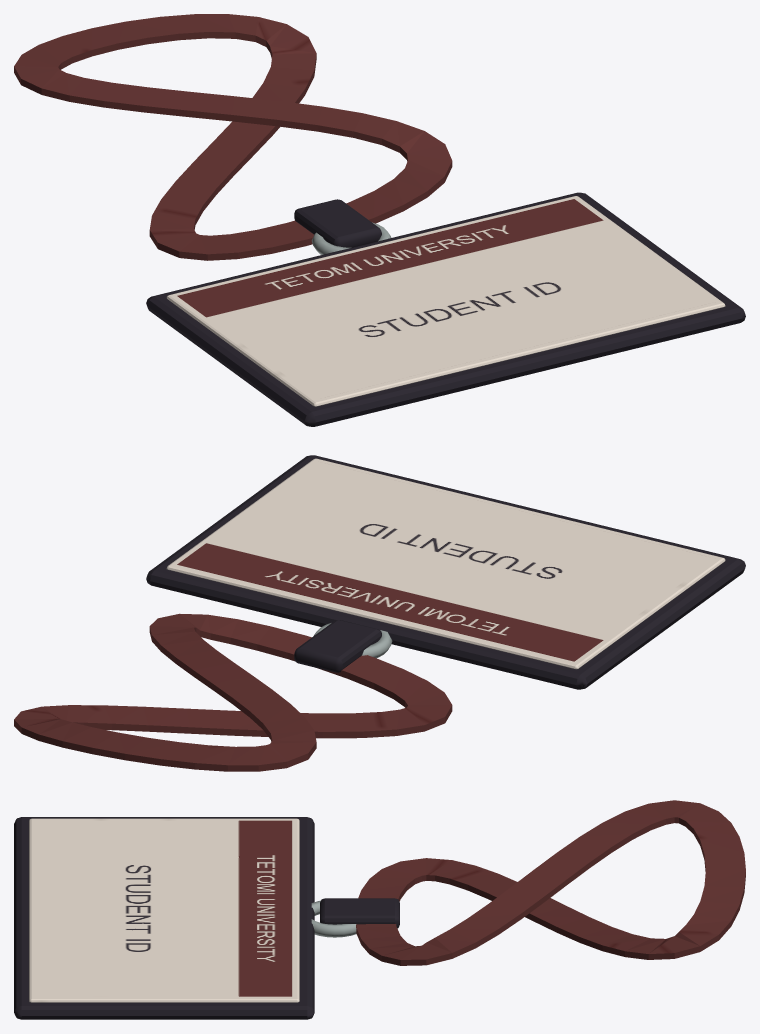
The model's file is ID_Card_Lanyard.fbx.
3 views of the same model, one above another, from view 1: azimuth 30°, elevation 25°; view 2: azimuth 150°, elevation 25°; view 3: azimuth 270°, elevation 25° (orthographic). The views are drawn at different scales.
Parts seen in each view (by area): view 1: ID_Card_Lanyard; view 2: ID_Card_Lanyard; view 3: ID_Card_Lanyard.
Boxes of the visible parts, x1=… form: ID_Card_Lanyard: x1=14, y1=14, x2=745, y2=426; ID_Card_Lanyard: x1=14, y1=455, x2=745, y2=771; ID_Card_Lanyard: x1=14, y1=800, x2=745, y2=1019.
Size of the model in its own units: 0.092 by 0.0141 by 0.146.
